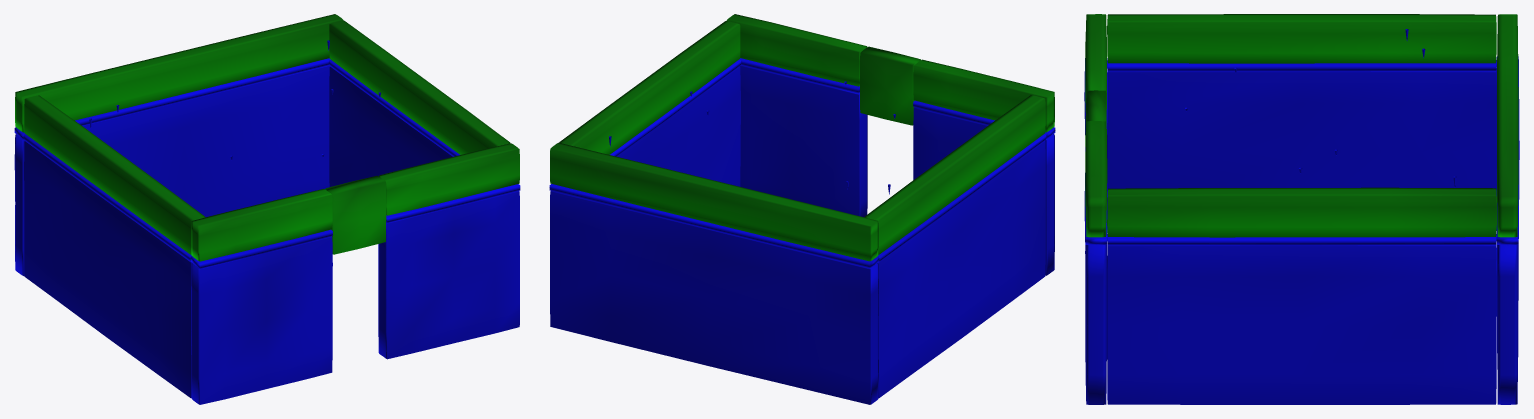
File: bell_room.glb
3 views of the same model, side by side, from view 1: azimuth 30°, elevation 25°; view 2: azimuth 150°, elevation 25°; view 3: azimuth 270°, elevation 25° (orthographic). The views are drawn at different scales.
Visible parts, largest first — view 1: bell_room; view 2: bell_room; view 3: bell_room.
Part boxes in pixels (x1=…): bell_room: x1=14, y1=14, x2=520, y2=404; bell_room: x1=549, y1=14, x2=1055, y2=404; bell_room: x1=1084, y1=14, x2=1519, y2=404.
Size of what is drawn, in the model's own units: 6.02 by 3.21 by 6.03.
